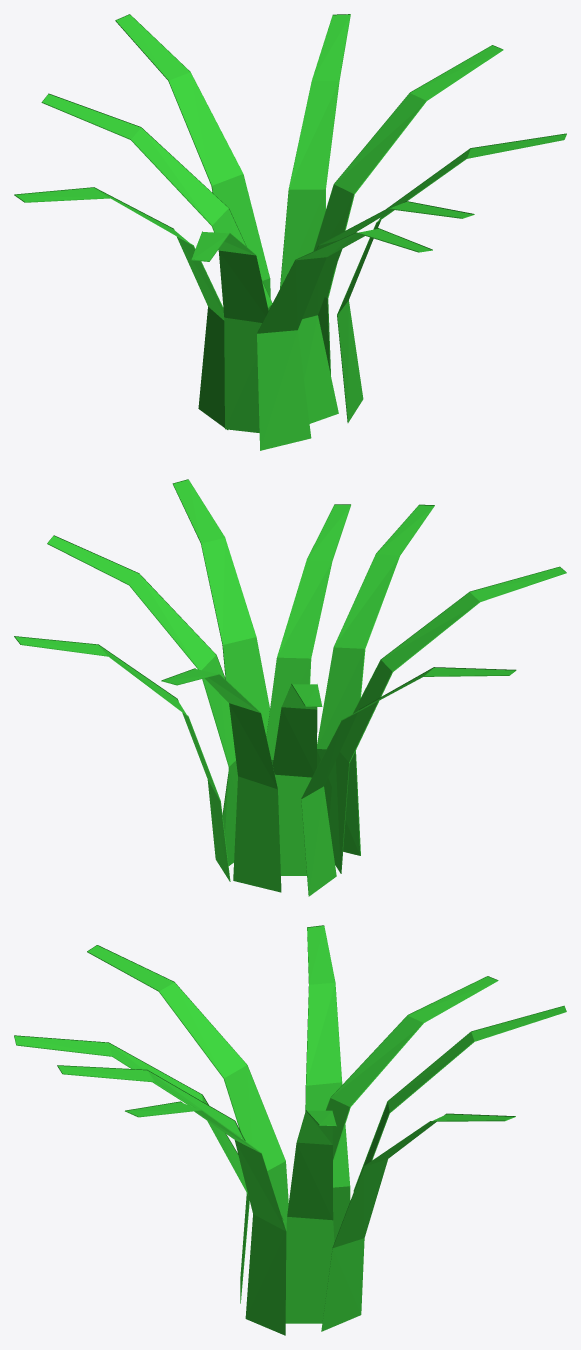
The model's file is grass.fbx.
3 views of the same model, one above another, from view 1: azimuth 30°, elevation 25°; view 2: azimuth 150°, elevation 25°; view 3: azimuth 270°, elevation 25° (orthographic). The views are drawn at different scales.
Parts seen in each view (by area): view 1: Plane.004, Plane.005, Plane.003, Plane, Plane.006, Plane.008, Plane.002, Plane.001, Plane.007; view 2: Plane, Plane.004, Plane.007, Plane.001, Plane.003, Plane.008, Plane.006, Plane.002, Plane.005; view 3: Plane.006, Plane.003, Plane.007, Plane.002, Plane.005, Plane.001, Plane.004, Plane, Plane.008.
Boxes of the visible parts, x1=… form: Plane.004: x1=257, y1=228, x2=432, y2=450; Plane.005: x1=280, y1=14, x2=350, y2=288; Plane.003: x1=191, y1=231, x2=268, y2=432; Plane: x1=115, y1=14, x2=270, y2=298; Plane.006: x1=313, y1=45, x2=503, y2=375; Plane.008: x1=297, y1=201, x2=474, y2=423; Plane.002: x1=14, y1=187, x2=227, y2=429; Plane.001: x1=41, y1=93, x2=272, y2=310; Plane.007: x1=337, y1=133, x2=566, y2=422; Plane: x1=161, y1=668, x2=281, y2=892; Plane.004: x1=317, y1=504, x2=434, y2=855; Plane.007: x1=172, y1=479, x2=269, y2=835; Plane.001: x1=272, y1=684, x2=322, y2=875; Plane.003: x1=329, y1=566, x2=566, y2=873; Plane.008: x1=266, y1=504, x2=350, y2=764; Plane.006: x1=47, y1=535, x2=237, y2=865; Plane.002: x1=301, y1=667, x2=516, y2=896; Plane.005: x1=14, y1=636, x2=230, y2=881; Plane.006: x1=285, y1=1110, x2=336, y2=1323; Plane.003: x1=87, y1=945, x2=288, y2=1229; Plane.007: x1=125, y1=1101, x2=286, y2=1335; Plane.002: x1=305, y1=925, x2=350, y2=1242; Plane.005: x1=321, y1=1113, x2=515, y2=1331; Plane.001: x1=325, y1=976, x2=498, y2=1162; Plane.004: x1=14, y1=1035, x2=249, y2=1303; Plane: x1=353, y1=1005, x2=566, y2=1191; Plane.008: x1=57, y1=1065, x2=284, y2=1223.
Bounding box in the file's own units: 293 × 174 × 302.
